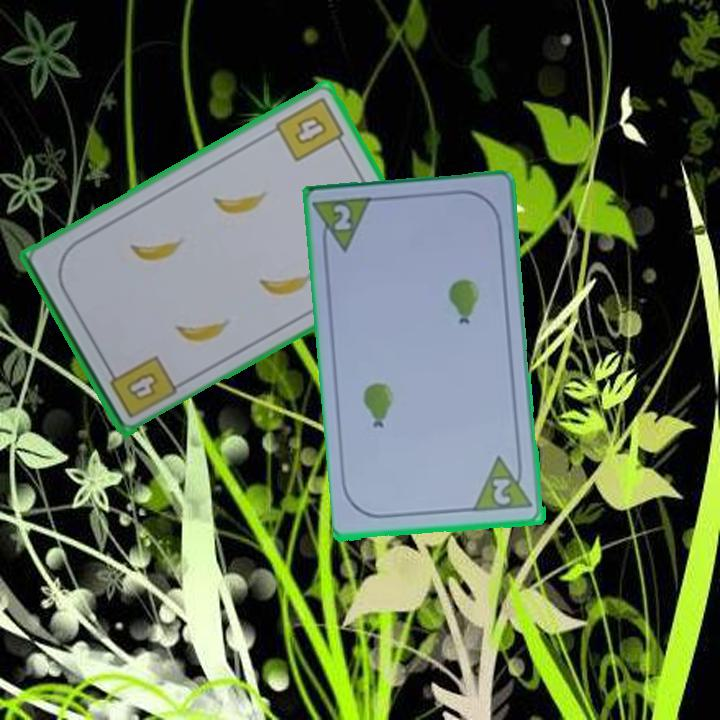2p: (330, 200, 355, 234), (489, 475, 514, 508)
4b: (271, 93, 350, 165), (103, 351, 180, 422)
